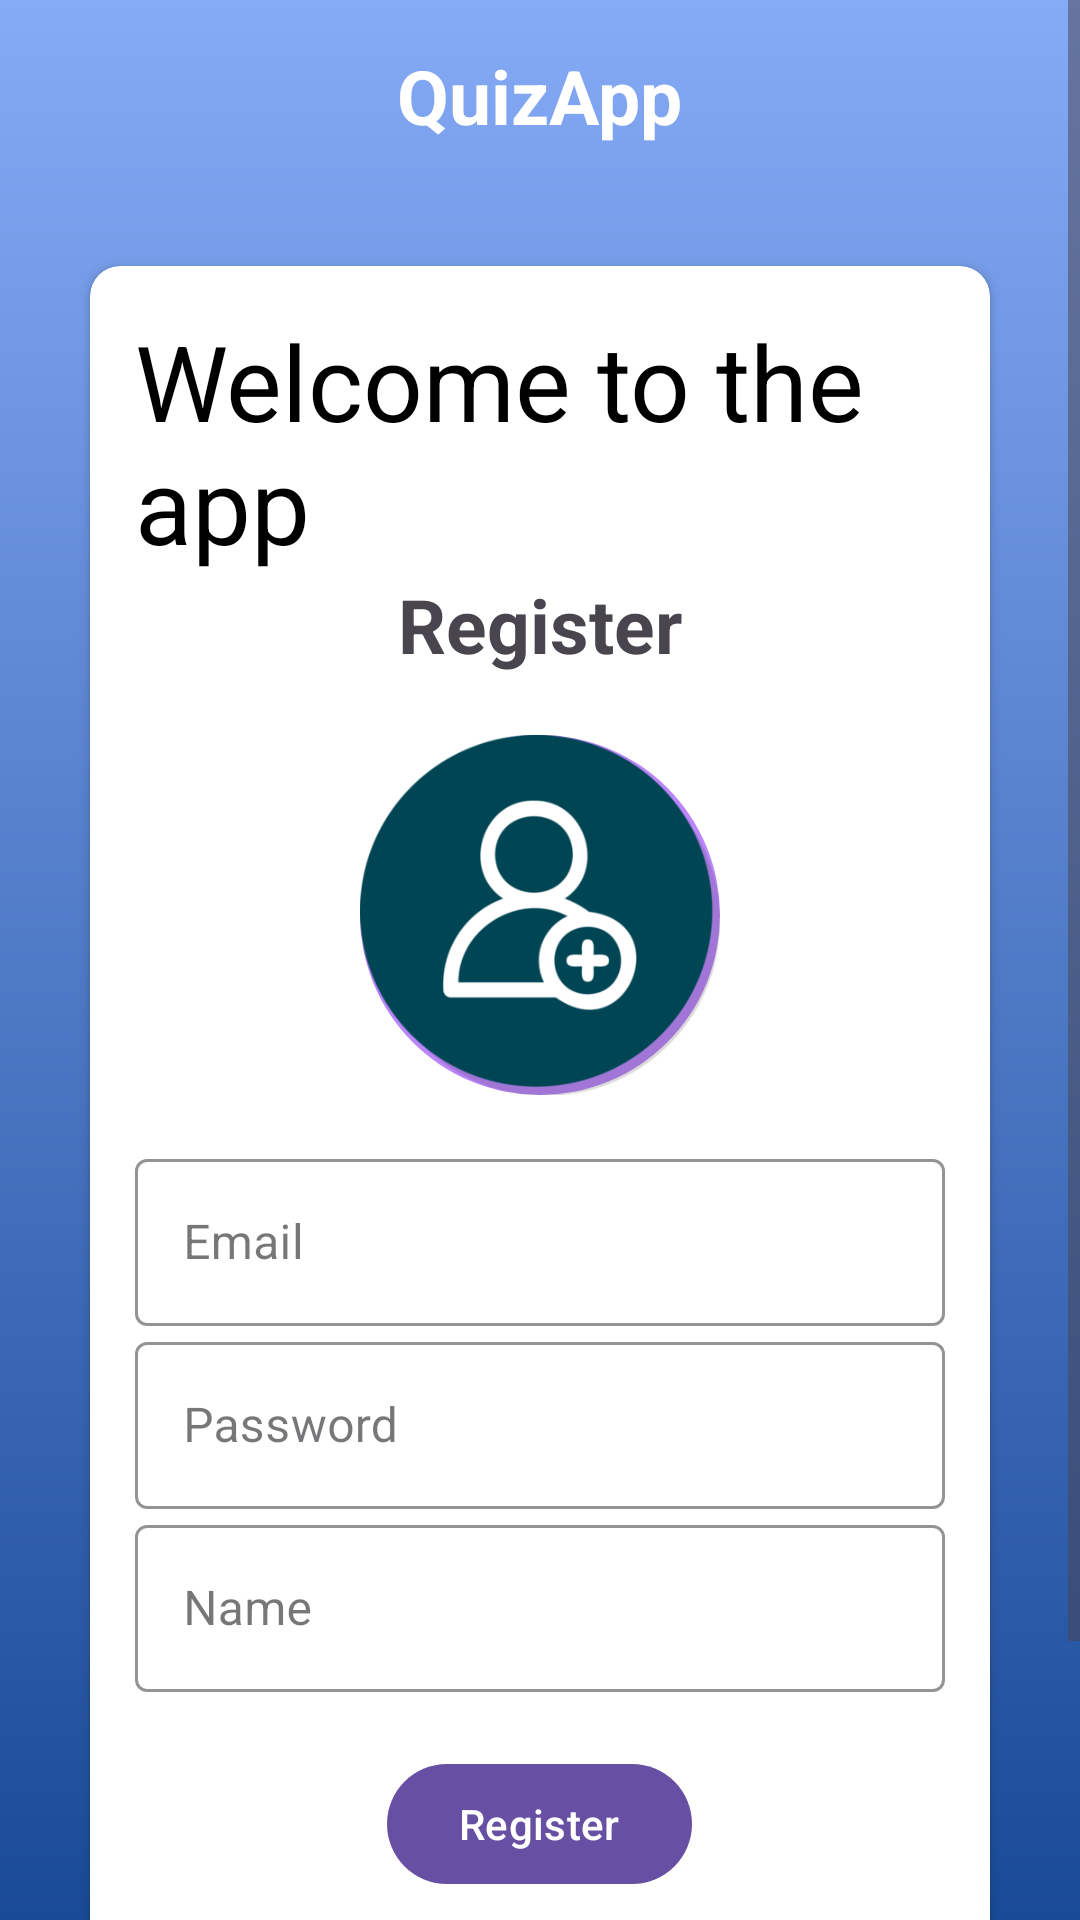

Screen size 1080x1920. Icon name, then its center in pixels as (x,y):
person: (540,915)
